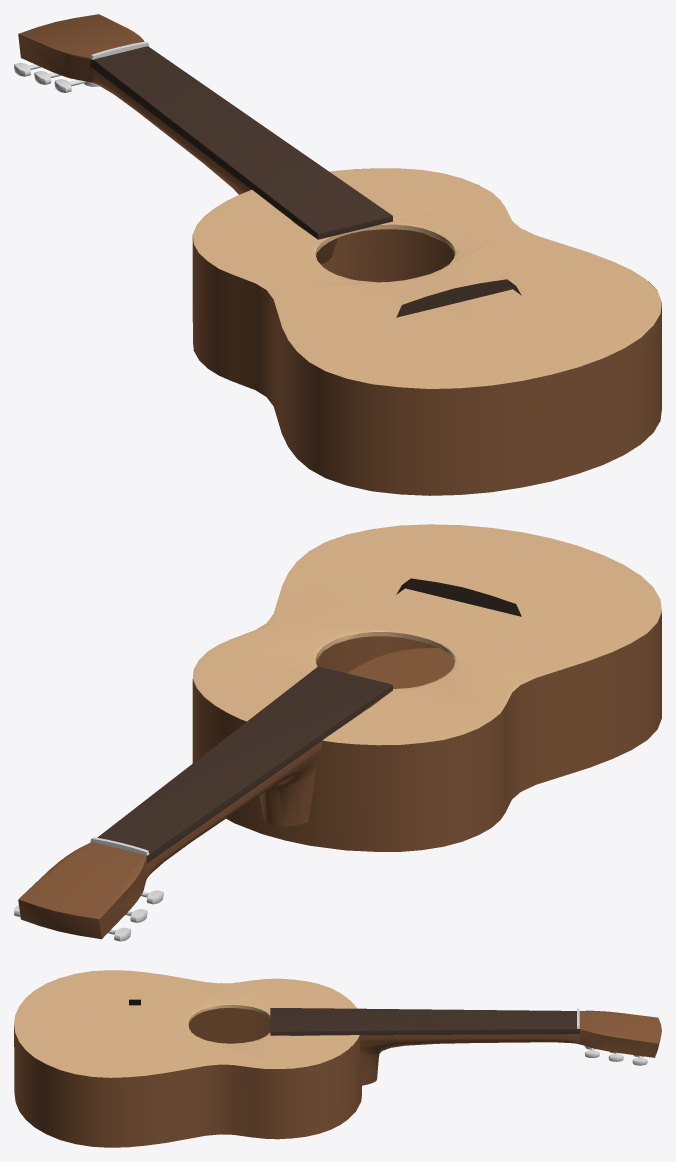
Rendered from guitar.glb.
3 renders of one model, top to bottom at view 1: azimuth 30°, elevation 25°; view 2: azimuth 150°, elevation 25°; view 3: azimuth 270°, elevation 25°, orthographic. The views are drawn at different scales.
Visible parts, largest first — view 1: Guitar, Neck, Bridge, TuningKeys; view 2: Guitar, Neck, Bridge, TuningKeys; view 3: Guitar, Neck, TuningKeys.
Boxes of the visible parts, x1,y1,x2,y2 form: Guitar: [192, 168, 661, 495]; Neck: [18, 14, 392, 264]; Bridge: [396, 279, 521, 317]; TuningKeys: [14, 62, 100, 92]; Guitar: [192, 524, 661, 851]; Neck: [18, 666, 392, 939]; Bridge: [396, 578, 521, 616]; TuningKeys: [14, 890, 163, 941]; Guitar: [14, 970, 361, 1147]; Neck: [270, 1008, 661, 1085]; TuningKeys: [584, 1046, 647, 1065].
Size of the model in its own units: 0.4013 by 0.1392 by 1.02.
